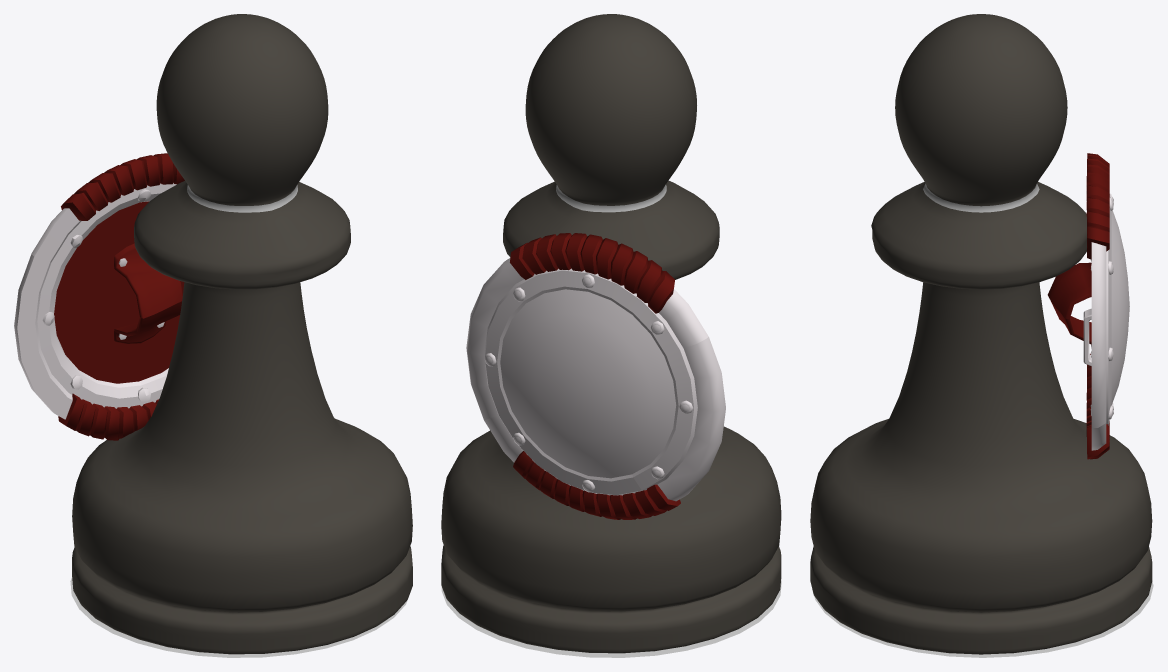
File: Peao2.fbx
3 views of the same model, side by side, from view 1: azimuth 30°, elevation 25°; view 2: azimuth 150°, elevation 25°; view 3: azimuth 270°, elevation 25° (orthographic).
Parts seen in each view (by area): view 1: Peça01, 3071, 4535, Peça02; view 2: Peça01, 4535, 3071, Peça02; view 3: Peça01, 4535, 3071, Peça02.
Boxes of the visible parts, x1,y1,x2,y2 form: Peça01: (72,14,412,654); 3071: (54,153,184,440); 4535: (14,183,176,419); Peça02: (70,577,411,657); Peça01: (441,14,781,653); 4535: (466,258,725,501); 3071: (510,233,680,519); Peça02: (441,580,781,657); Peça01: (810,14,1152,654); 4535: (1083,194,1129,450); 3071: (1047,153,1109,459); Peça02: (814,581,1153,657).
Bounding box in the file's own units: 137 × 233 × 128.
